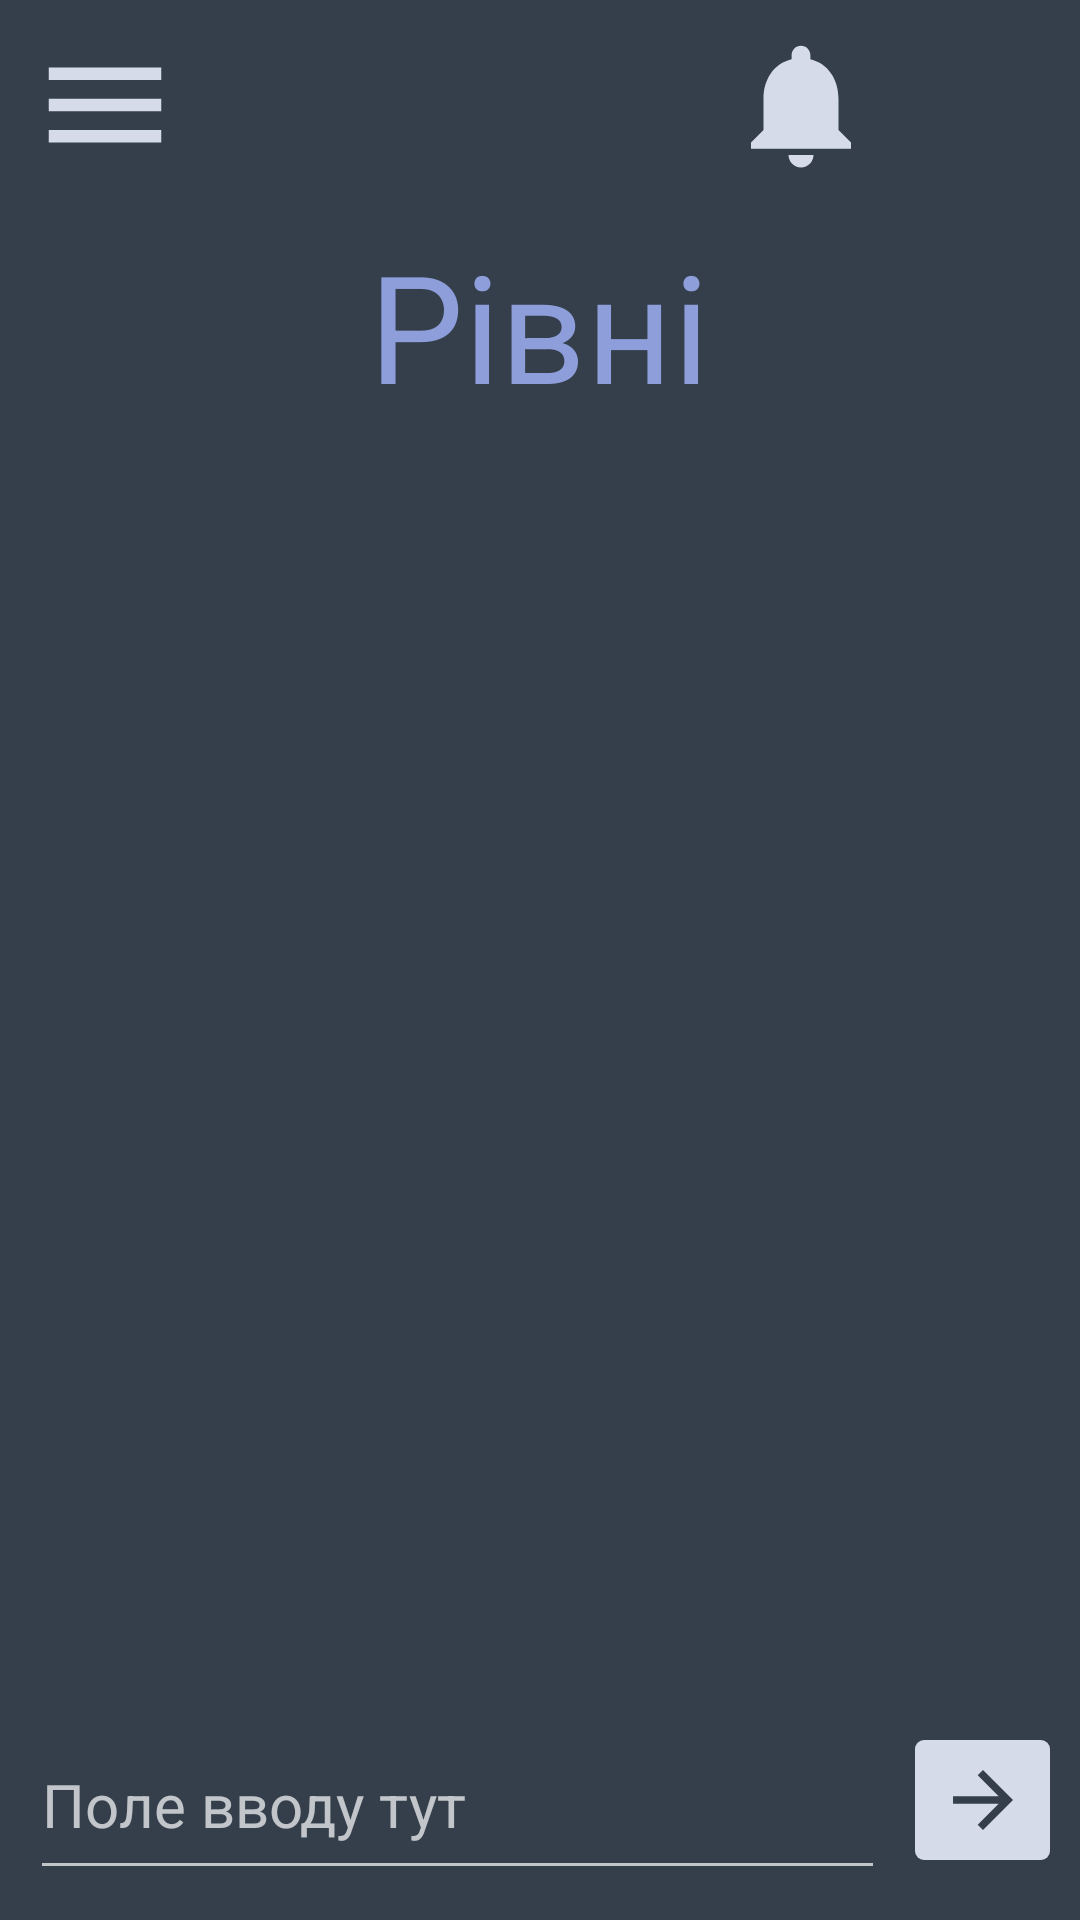

Where to tap for icons on this 1080 x 1920 app screen, as point (x, y):
Go back to Menu: point (105, 105)
right arrow: point (983, 1800)
